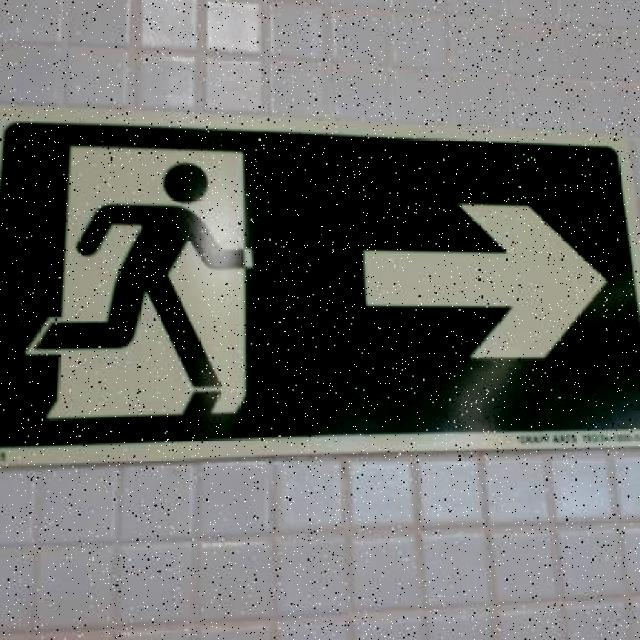emergency_exit: (1, 114, 638, 462)
